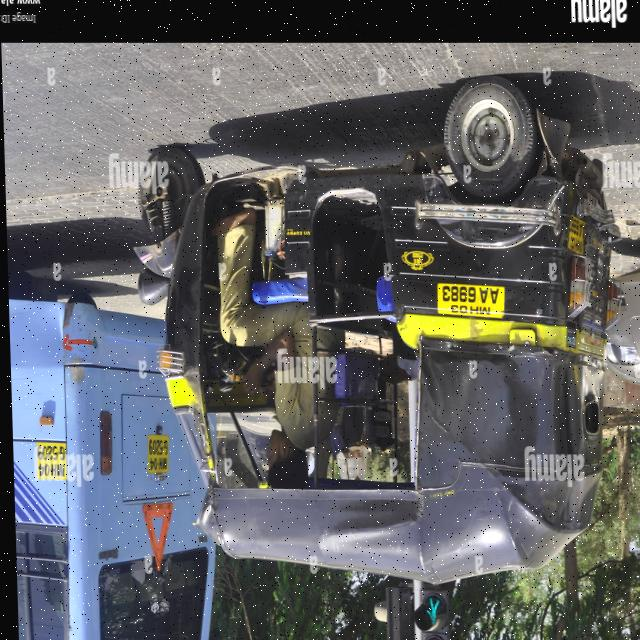plate: (428, 279, 507, 323), (29, 440, 64, 483), (140, 432, 169, 477)
